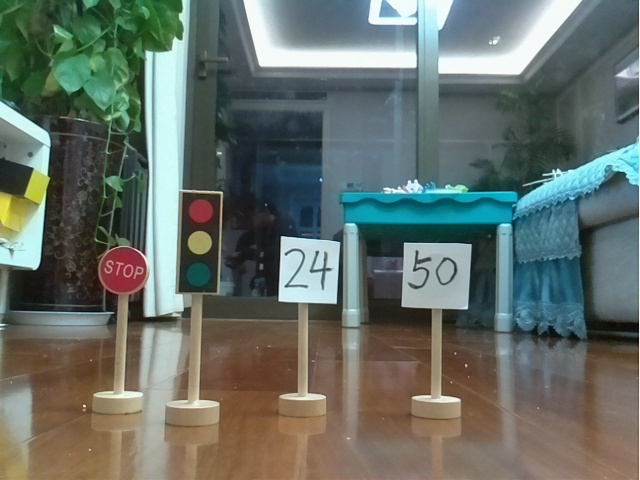Red Traffic Light: (162, 185, 226, 431)
Speed Limit 24: (269, 230, 350, 423)
Speed Limit 50: (395, 234, 478, 423)
Stop Sign: (89, 241, 151, 419)
